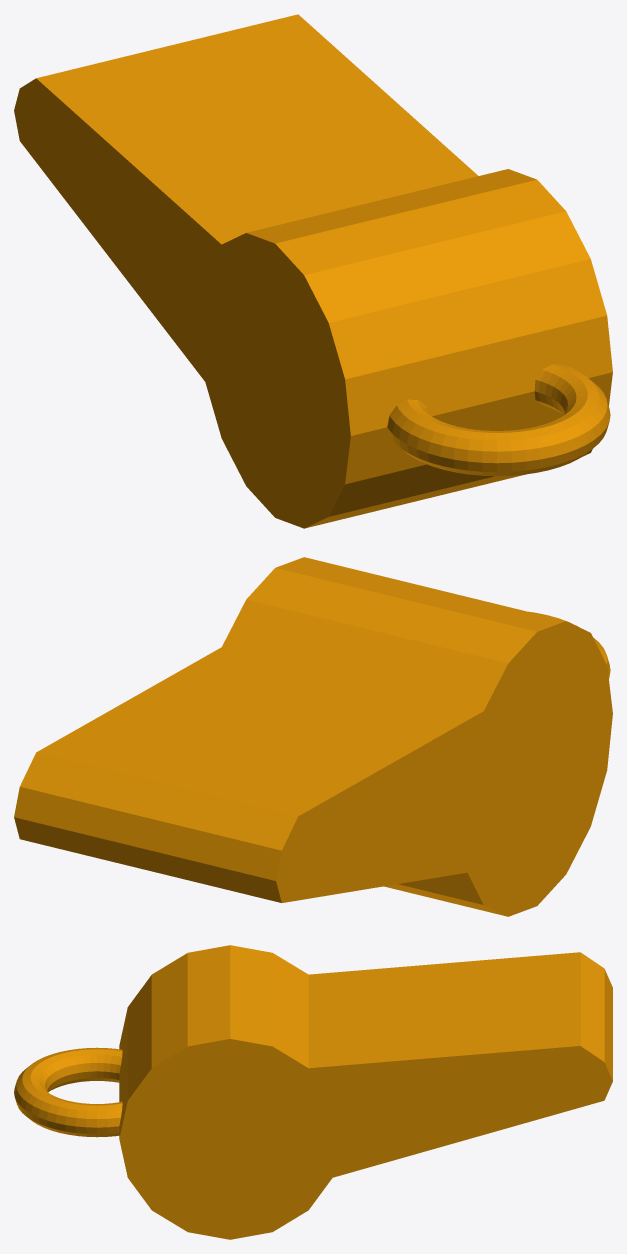
Rendered from Fluier.fbx.
3 views of the same model, one above another, from view 1: azimuth 30°, elevation 25°; view 2: azimuth 150°, elevation 25°; view 3: azimuth 270°, elevation 25° (orthographic). The views are drawn at different scales.
Visible parts, largest first — view 1: Fluier; view 2: Fluier; view 3: Fluier.
Part boxes in pixels (box(x1,y1,x2,y2)): Fluier: box(14, 14, 612, 528); Fluier: box(14, 557, 612, 916); Fluier: box(14, 945, 612, 1239).
Size of the model in its own units: 2 by 2 by 5.4.
